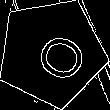O_NW: (19, 22, 85, 83)
